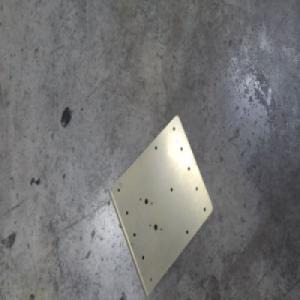MetalSheet: (107, 114, 213, 298)
